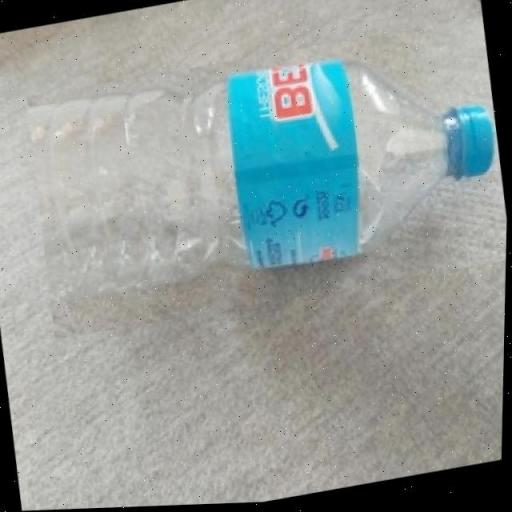plastic: (24, 27, 511, 318)
